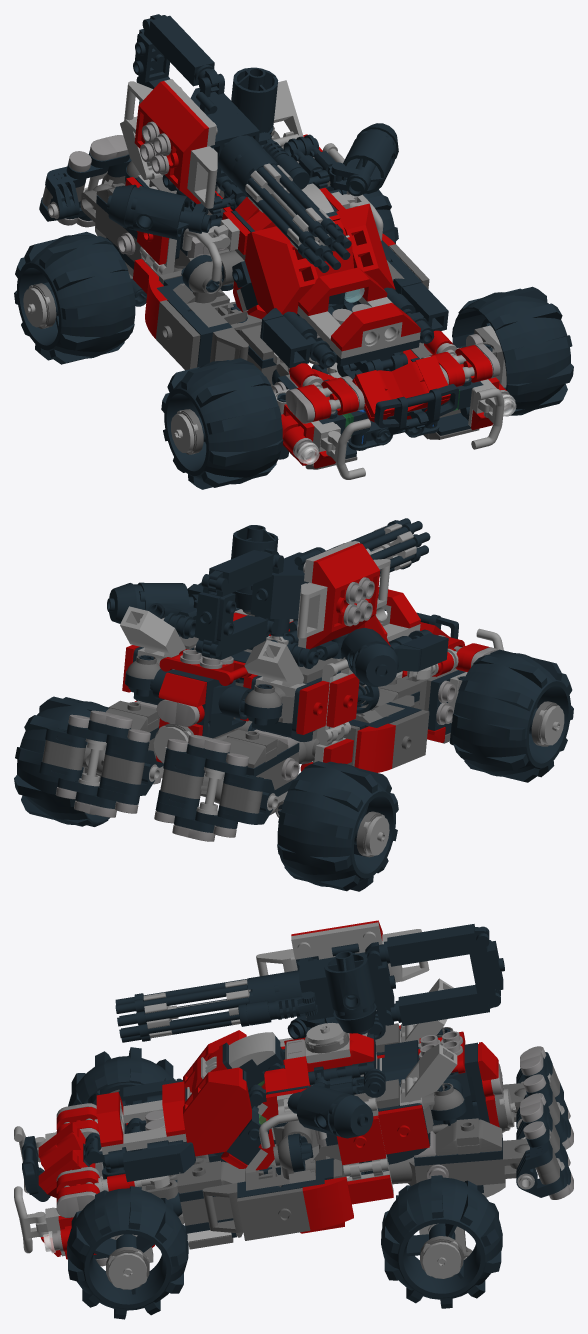
Rendered from kx-7737-kumo-rover.dae.
3 renders of one model, top to bottom at view 1: azimuth 30°, elevation 25°; view 2: azimuth 150°, elevation 25°; view 3: azimuth 270°, elevation 25°, orthographic. The views are drawn at different scales.
Size of the model in its own units: 388 by 506 by 295.
